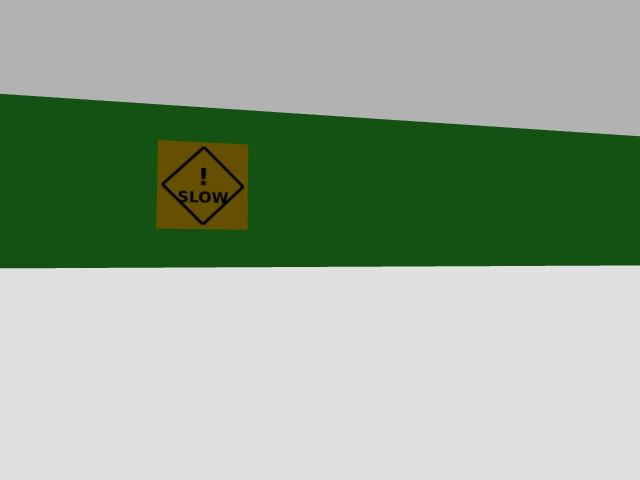slow: (156, 141, 247, 228)
